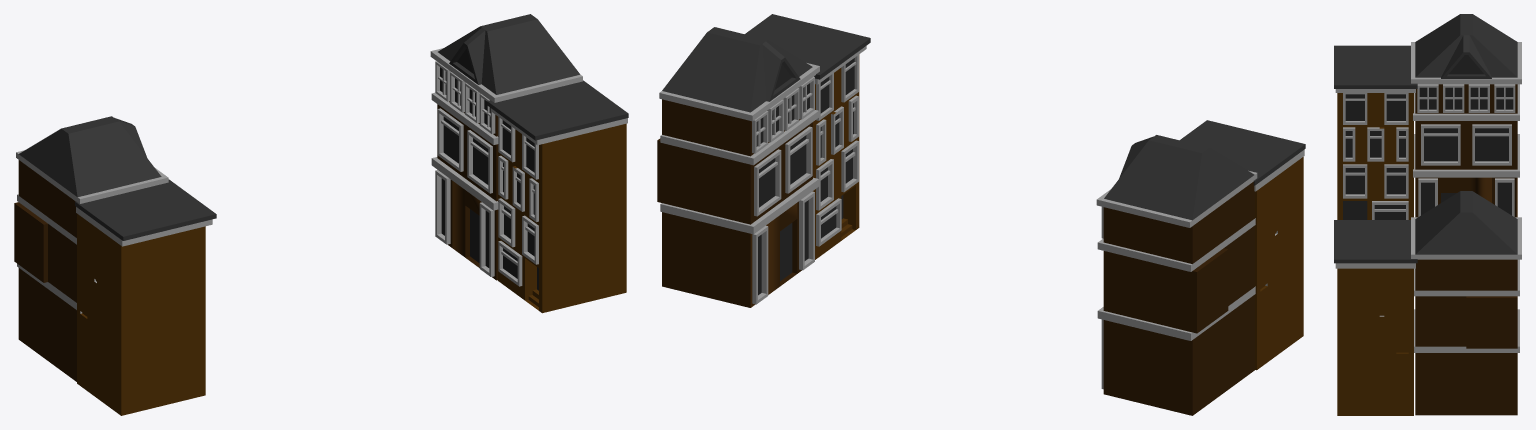
The model's file is House3.fbx.
3 views of the same model, side by side, from view 1: azimuth 30°, elevation 25°; view 2: azimuth 150°, elevation 25°; view 3: azimuth 270°, elevation 25° (orthographic). The views are drawn at different scales.
Parts seen in each view (by area): view 1: House2.001; view 2: House2.001; view 3: House2.001.
Part boxes in pixels (x1,y1,x2,y2): House2.001: (14, 14, 628, 415); House2.001: (657, 14, 1305, 415); House2.001: (1334, 14, 1521, 415).
Size of the model in its own units: 3251 by 1372 by 1193.
